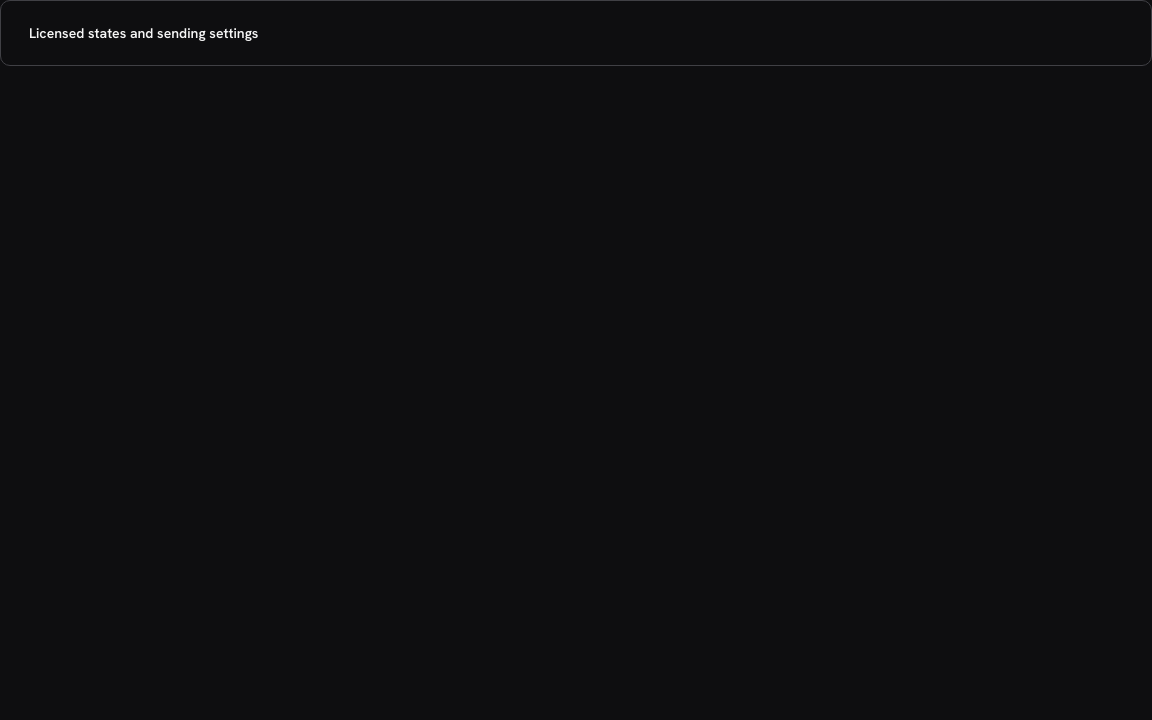
Test: consumer campaign owner settings › starts empty and saves explicit evidence before enabling without sending
Click the button "Licensed states and sending settings": (144, 33) [13,13,1139,53]
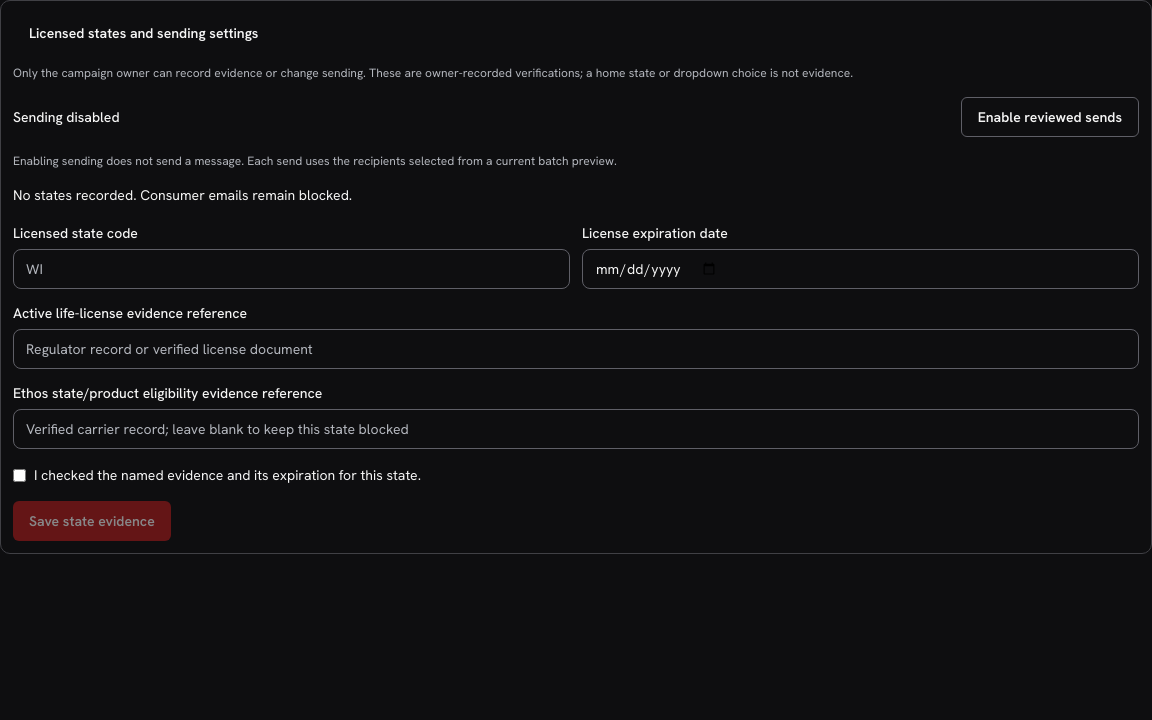
Check: the text "No states recorded. Consumer emails remain blocked." is shown, box [13,186,352,204]
Check: the field labelled "Licensed state code" is empty
Check: the button "Save state evidence" is disabled, box [13,501,171,541]
In the field labelled "Licensed state code": (292, 269) [13,249,570,289], type "wi"
In the date field labelled "License expiration date": (860, 269) [582,249,1139,289], type "2030-12-31"
In the field labelled "Active life-license evidence reference": (576, 349) [13,329,1139,369], type "Regulator record 123"
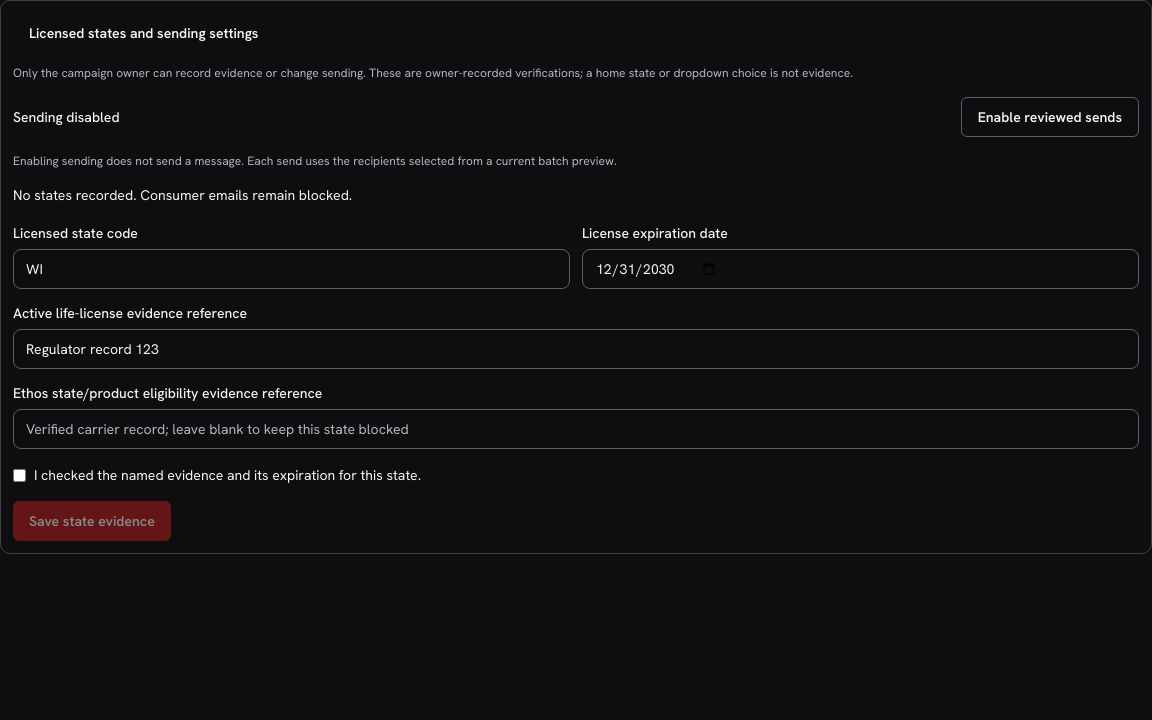
Replace the text in the field labelled "Ethos state/product eligibility evidence reference" with "Ethos eligibility record 456": (576, 429) [13,409,1139,449]
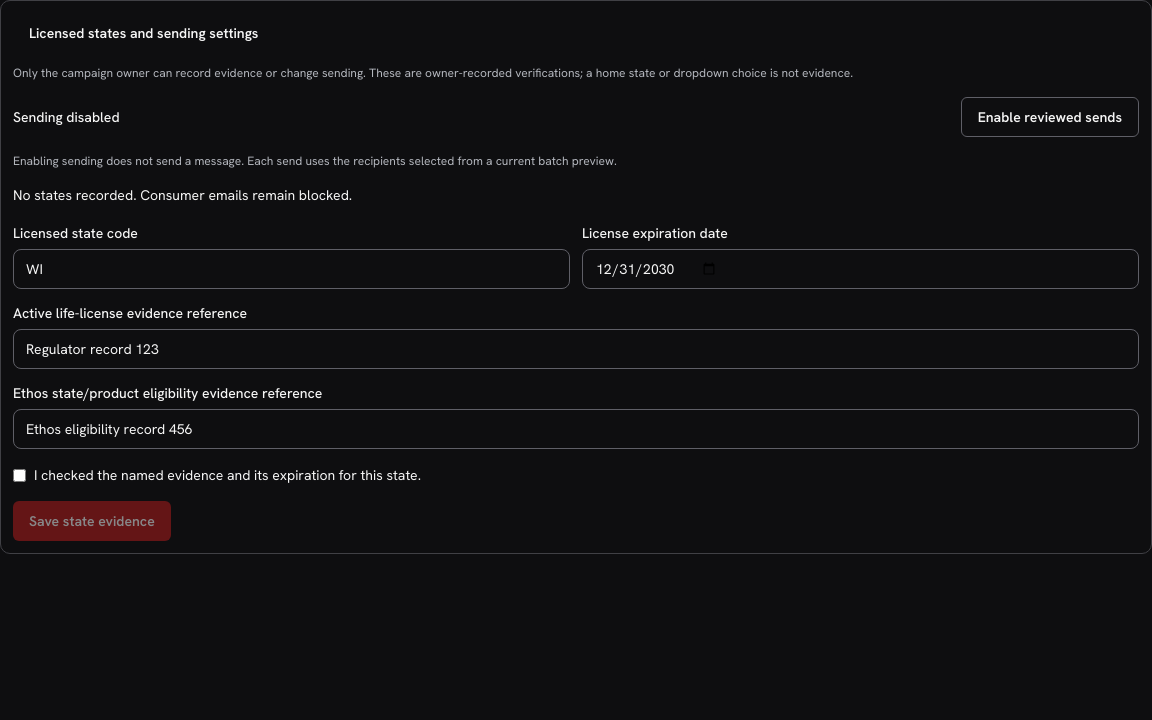
Check: the button "Save state evidence" is disabled, box [13,501,171,541]
Click the checkbox labelled "I checked the named evidence and its expiration for this state.": (20, 476) [13,469,26,482]
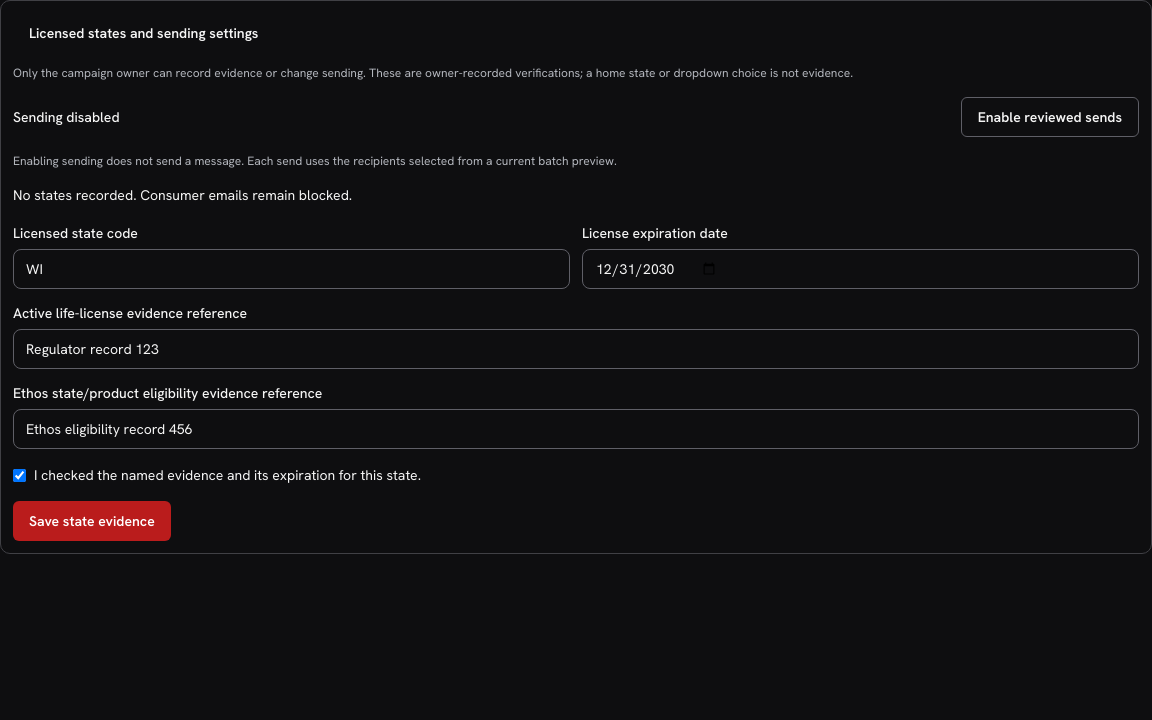
Click the button "Save state evidence": (92, 521) [13,501,171,541]
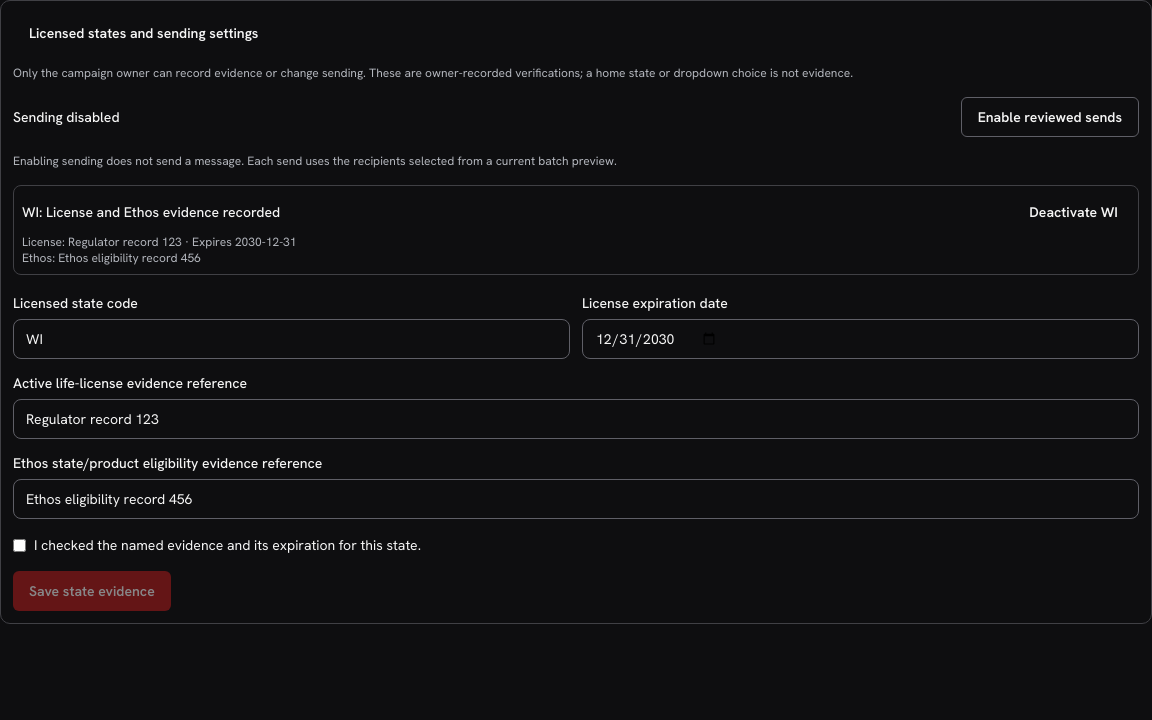
Check: the text "WI: License and Ethos evidence recorded" is shown, box [22,202,280,222]
Click the button "Enable reviewed sends": (1050, 117) [961,97,1139,137]
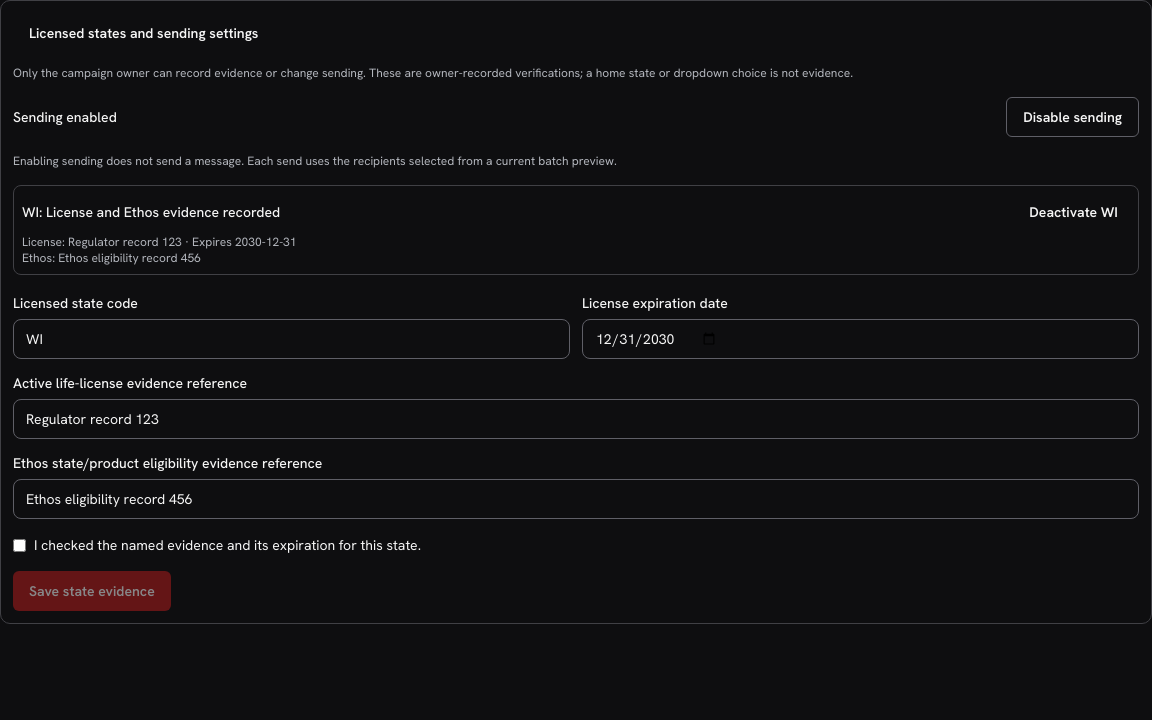
Check: the text "Sending enabled" is shown, box [13,107,117,127]
